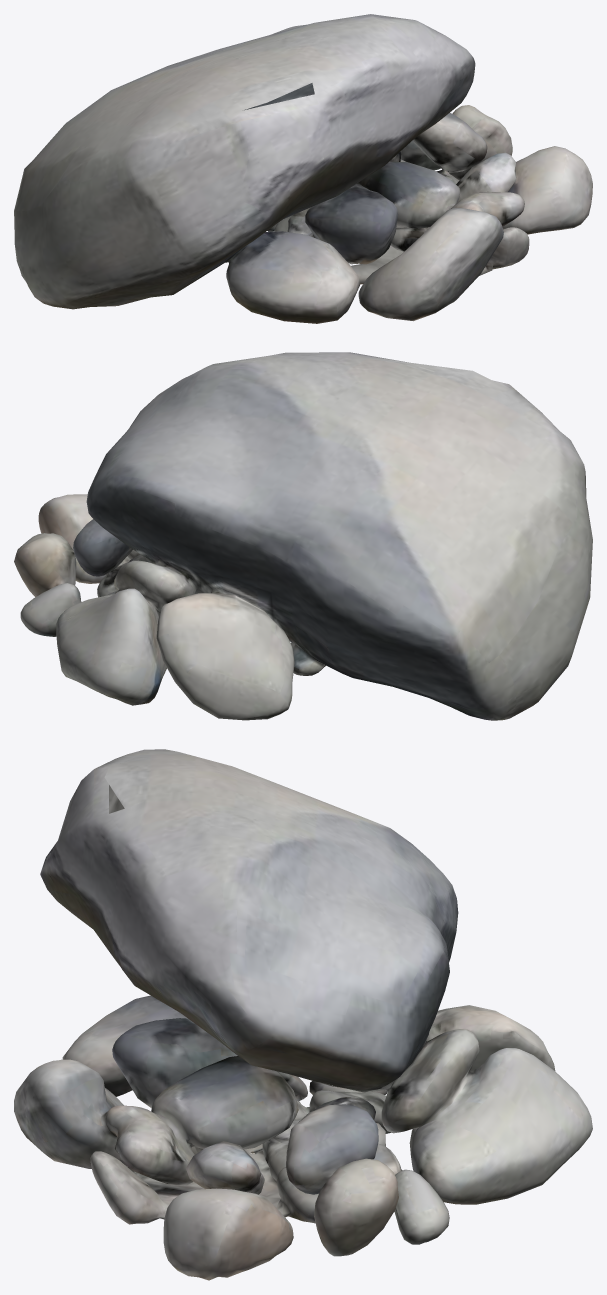
File: Meshy_AI_Rocks_0220190015_texture.glb
3 renders of one model, top to bottom at view 1: azimuth 30°, elevation 25°; view 2: azimuth 150°, elevation 25°; view 3: azimuth 270°, elevation 25°, orthographic. The views are drawn at different scales.
Size of the model in its own units: 1.99 by 0.8811 by 1.5.
1 material, 1 textured.
